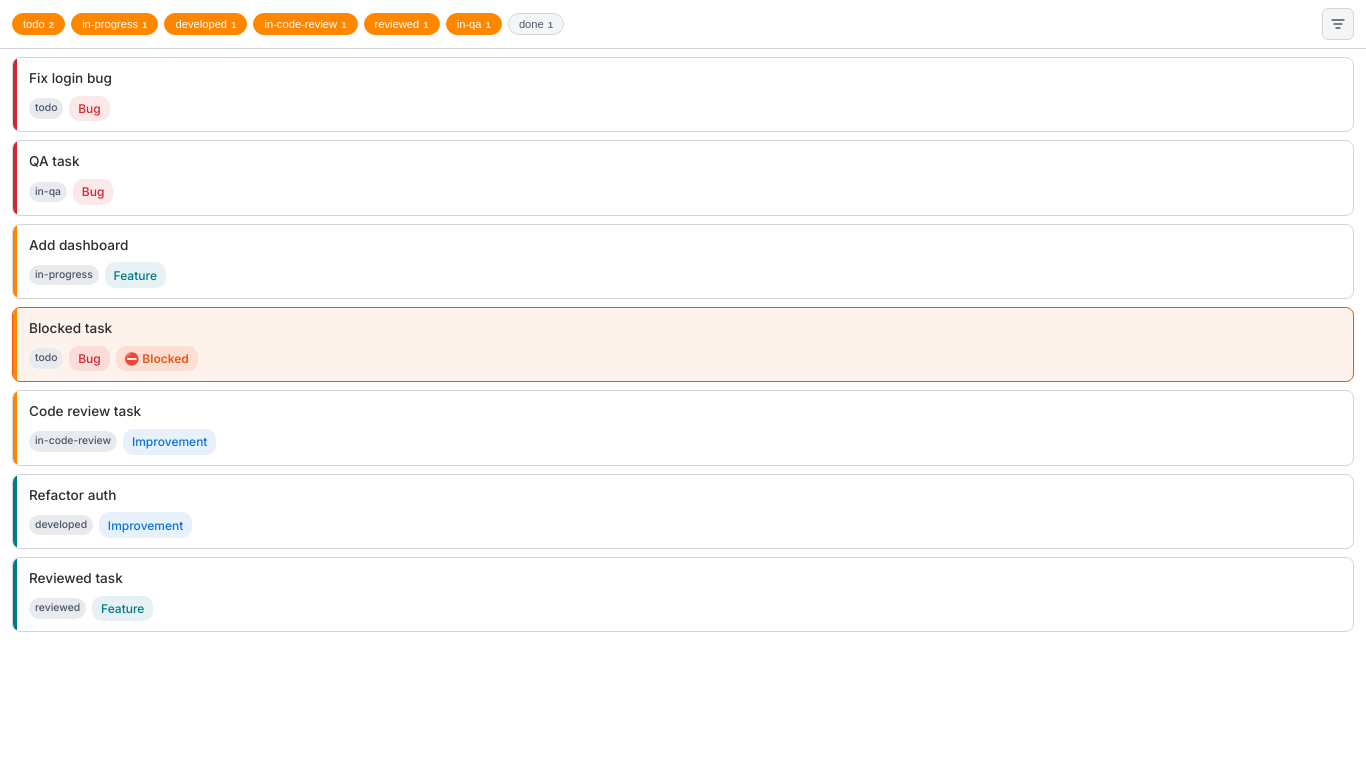
MobileTaskList › sort options › opens a sort popover with options when sort button is clicked
Click the button named "sort". click: (1338, 24)
box: [1322,8,1354,40]
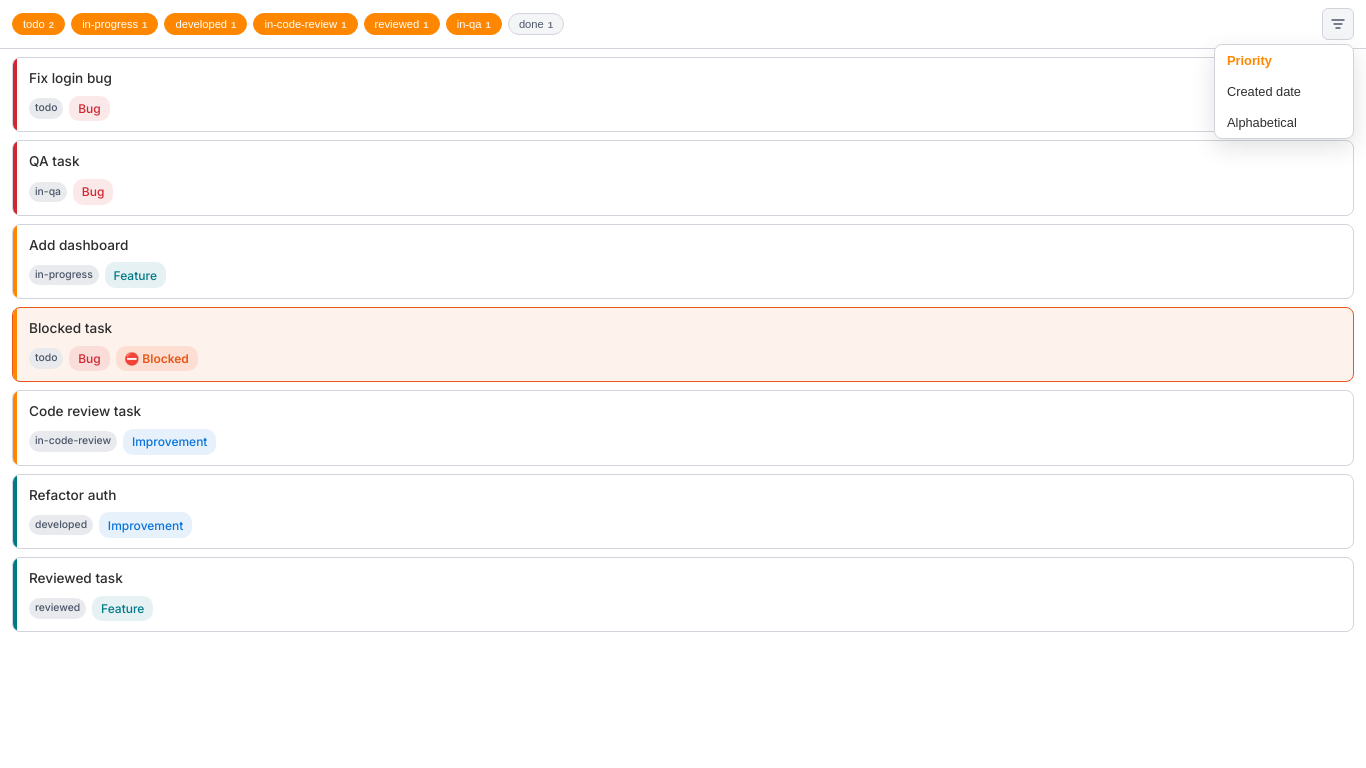
Result: the menu item "Priority" is shown at [1215,45,1353,76]
Result: the menu item "Created date" is shown at [1215,76,1353,107]
Result: the menu item "Alphabetical" is shown at [1215,107,1353,138]
